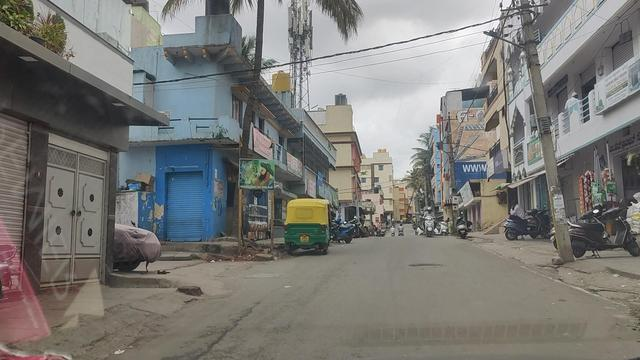RoadDamages: (197, 333, 240, 360), (232, 292, 270, 319), (402, 254, 444, 273), (246, 268, 286, 282)
